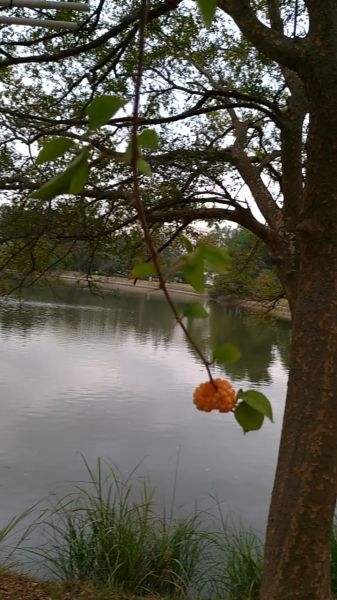eggs: (188, 375, 243, 419)
